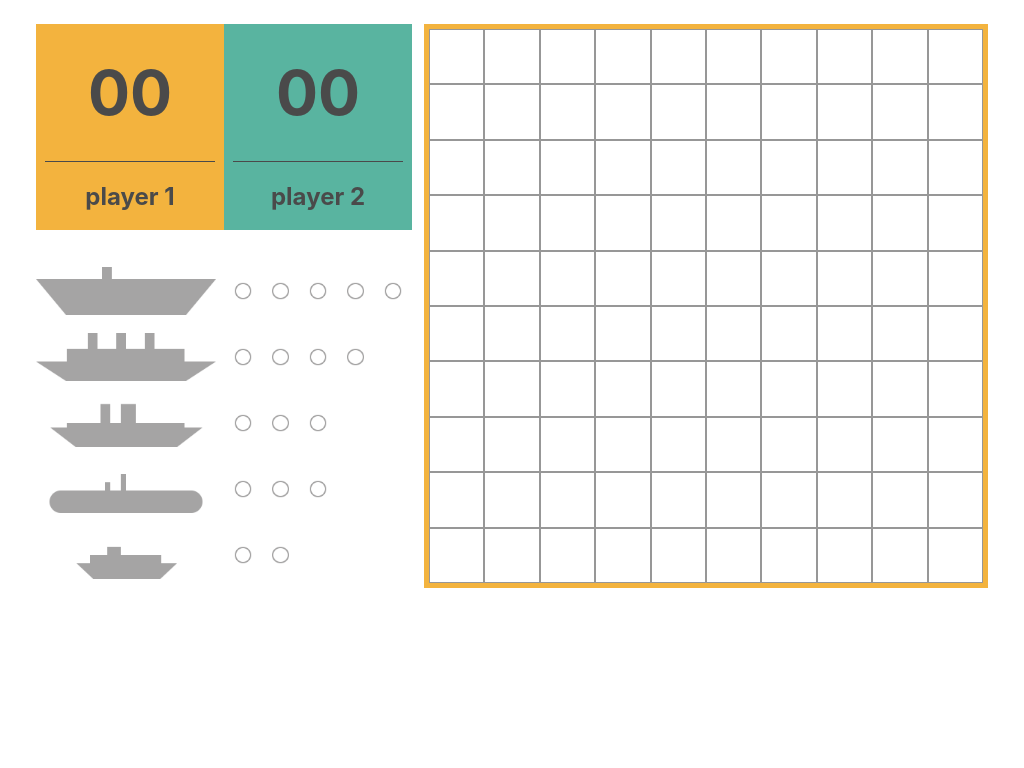
Test: App › Score › shows the score correctly
The width and height of the screenshot is (1024, 768).
Click the element with test id "board__cell-1-0" at [512, 57], box 484,29 -> 540,84
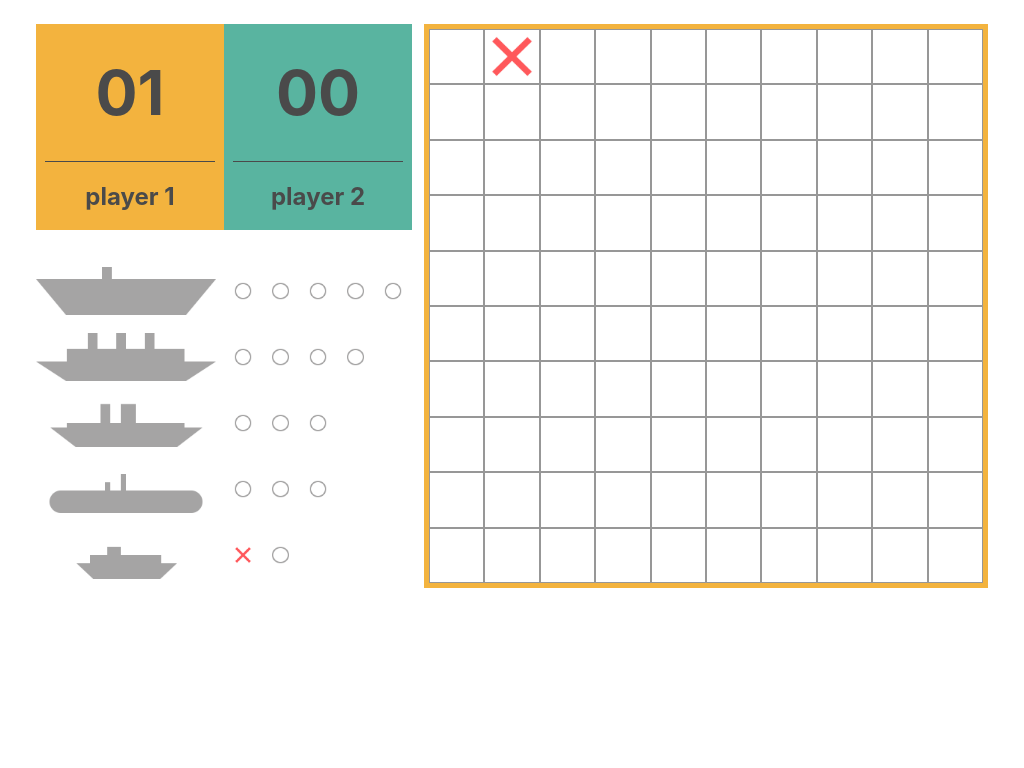
Click the element with test id "board__cell-2-1" at [568, 112], box 540,84 -> 595,140
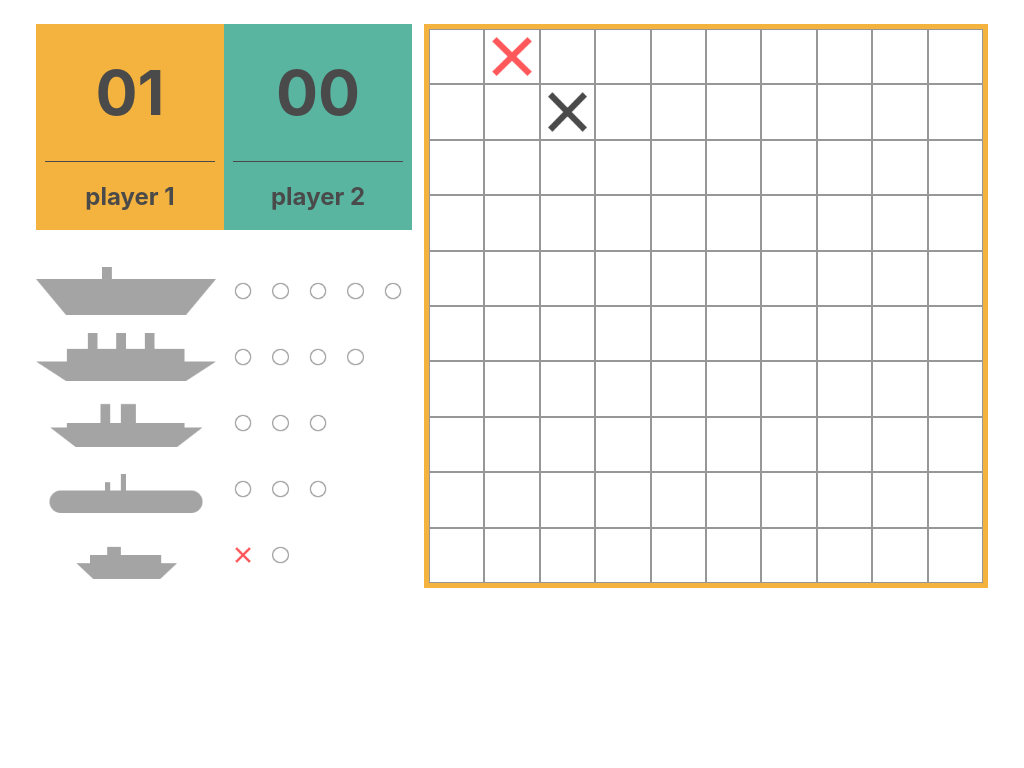
Result: the picture with alt text "hit-mark" is shown at 484,29 -> 540,84
Result: the text "01" is shown at 45,24 -> 215,162
Result: the picture with alt text "miss-mark" is shown at 540,84 -> 595,140
